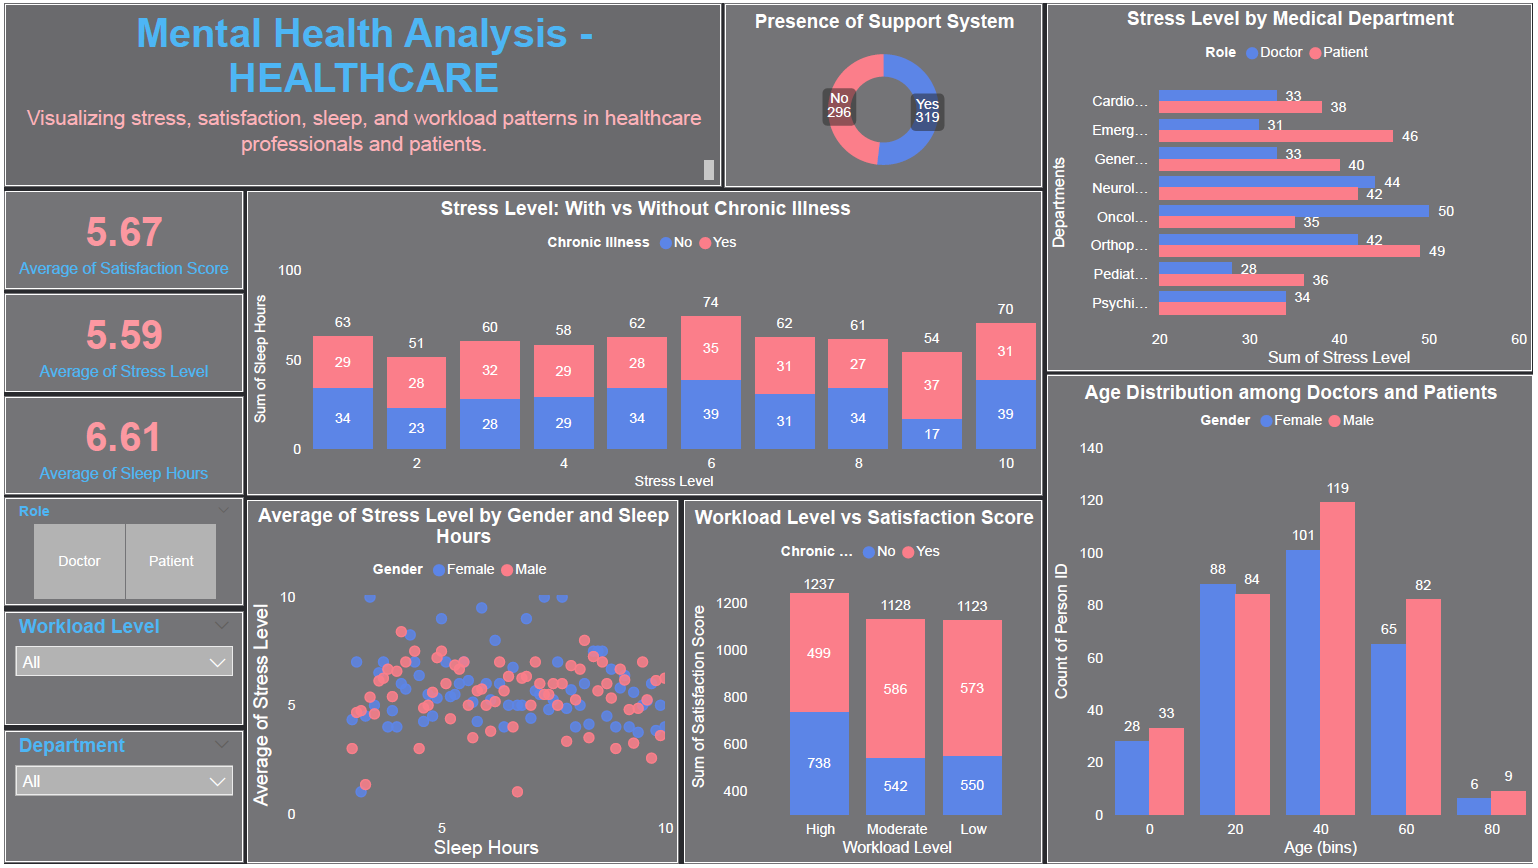

The page's visual inventory and layout, read from the dashboard file:
{"tool":"powerbi","page":{"name":"Page 1","canvas":[1280,720],"ordinal":0},"visuals":[{"type":"clusteredColumnChart","title":"Age Distribution among Doctors and Patients","fields":{"Category":["Healthcare_Dataset.Age (bins)"],"Y":["Count(Healthcare_Dataset.Person_ID)"],"Series":["Healthcare_Dataset.Gender"]},"box":[913,311.7,367.5,407.8],"z":0},{"type":"clusteredBarChart","title":"Stress Level by Medical Department","fields":{"Category":["Healthcare_Dataset.Department"],"Y":["CountNonNull(Healthcare_Dataset.Stress_Level)"],"Series":["Healthcare_Dataset.Role"]},"box":[913,0,367.5,307.8],"z":1000},{"type":"columnChart","title":"Stress Level: With vs Without Chronic Illness","fields":{"Y":["Sum(Healthcare_Dataset.Sleep_Hours)"],"Category":["Healthcare_Dataset.Stress_Level"],"Series":["Healthcare_Dataset.Chronic_Illness"]},"box":[203.9,157.1,705.2,254.5],"z":2000},{"type":"columnChart","title":"Workload Level vs Satisfaction Score","fields":{"Category":["Healthcare_Dataset.Workload_Level"],"Series":["Healthcare_Dataset.Chronic_Illness"],"Y":["Sum(Healthcare_Dataset.Satisfaction_Score)"]},"box":[545.5,415.6,363.6,303.9],"z":3000},{"type":"donutChart","title":"Presence of Support System","fields":{"Y":["CountNonNull(Healthcare_Dataset.Person_ID)"],"Category":["Healthcare_Dataset.Support_System"]},"box":[603.9,0,305.2,153.2],"z":4000},{"type":"textbox","title":"Mental Health Analysis - HEALTHCARE","box":[0,0,600,153.2],"z":5000},{"type":"card","fields":{"Values":["Avg(Healthcare_Dataset.Satisfaction_Score)"]},"box":[0,157.1,200,82],"z":6000},{"type":"card","fields":{"Values":["Avg(Healthcare_Dataset.Stress_Level)"]},"box":[0,242.9,200,82],"z":7000},{"type":"card","fields":{"Values":["Avg(Healthcare_Dataset.Sleep_Hours)"]},"box":[0,328.6,200,82],"z":8000},{"type":"slicer","fields":{"Values":["Healthcare_Dataset.Role"]},"box":[0,415.6,200,89.6],"z":9000},{"type":"slicer","title":"Workload Level","fields":{"Values":["Healthcare_Dataset.Workload_Level"]},"box":[0,509.1,200,94.8],"z":10000},{"type":"slicer","title":"Departments","fields":{"Values":["Healthcare_Dataset.Department"]},"box":[0,609.1,200,110.4],"z":11000},{"type":"scatterChart","title":"Average of Stress Level by Gender and Sleep Hours","fields":{"X":["Healthcare_Dataset.Sleep_Hours"],"Y":["Avg(Healthcare_Dataset.Stress_Level)"],"Series":["Healthcare_Dataset.Gender"]},"box":[203.9,415.6,337.7,303.9],"z":12000}]}

Visuals, with their boxes in screenshot pixels (x1, y1, x2, y2), scaled from the page's 1280x720 canvas onto the 1538x868 screenshot:
"Age Distribution among Doctors and Patients" clusteredColumnChart: box(1097, 376, 1537, 867)
"Stress Level by Medical Department" clusteredBarChart: box(1097, 0, 1537, 371)
"Stress Level: With vs Without Chronic Illness" columnChart: box(245, 189, 1092, 496)
"Workload Level vs Satisfaction Score" columnChart: box(655, 501, 1092, 867)
"Presence of Support System" donutChart: box(726, 0, 1092, 185)
"Mental Health Analysis - HEALTHCARE" textbox: box(0, 0, 721, 185)
card - Avg(Healthcare_Dataset.Satisfaction_Score): box(0, 189, 240, 288)
card - Avg(Healthcare_Dataset.Stress_Level): box(0, 293, 240, 392)
card - Avg(Healthcare_Dataset.Sleep_Hours): box(0, 396, 240, 495)
slicer - Healthcare_Dataset.Role: box(0, 501, 240, 609)
"Workload Level" slicer: box(0, 614, 240, 728)
"Departments" slicer: box(0, 734, 240, 867)
"Average of Stress Level by Gender and Sleep Hours" scatterChart: box(245, 501, 651, 867)
